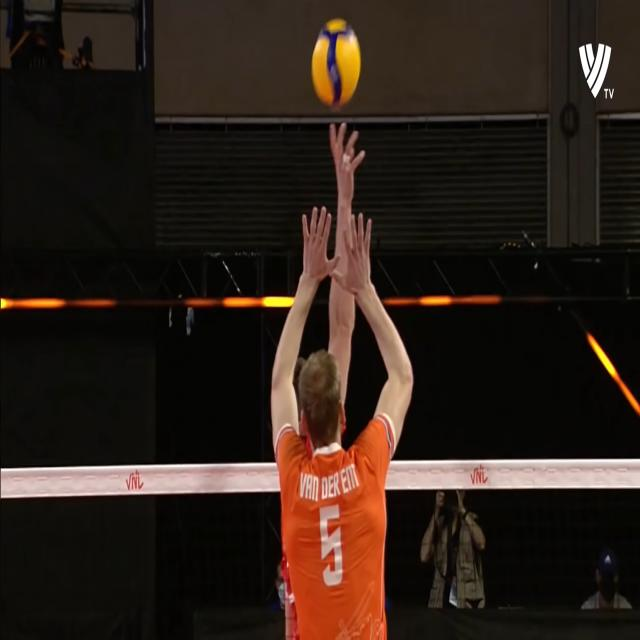player: (275, 211, 403, 640)
